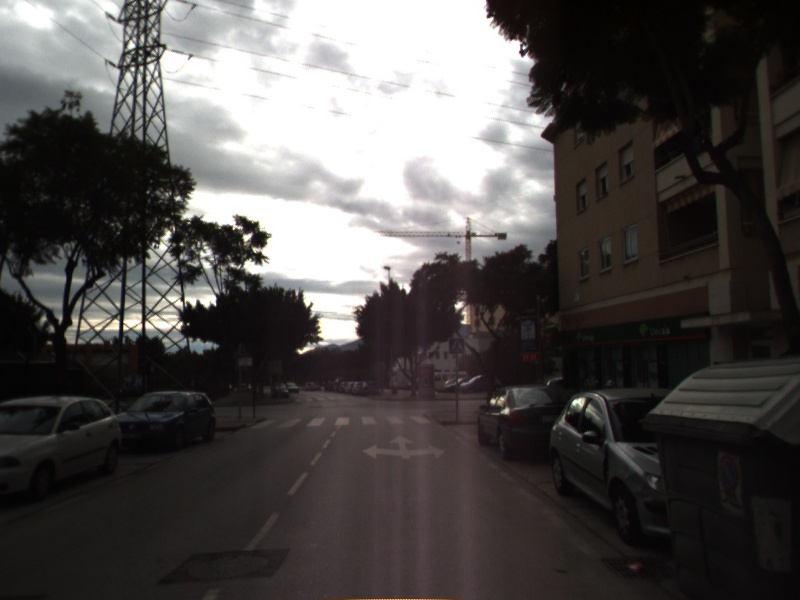STRAIGHT_LEFT_RIGHT: (360, 434, 449, 461)
